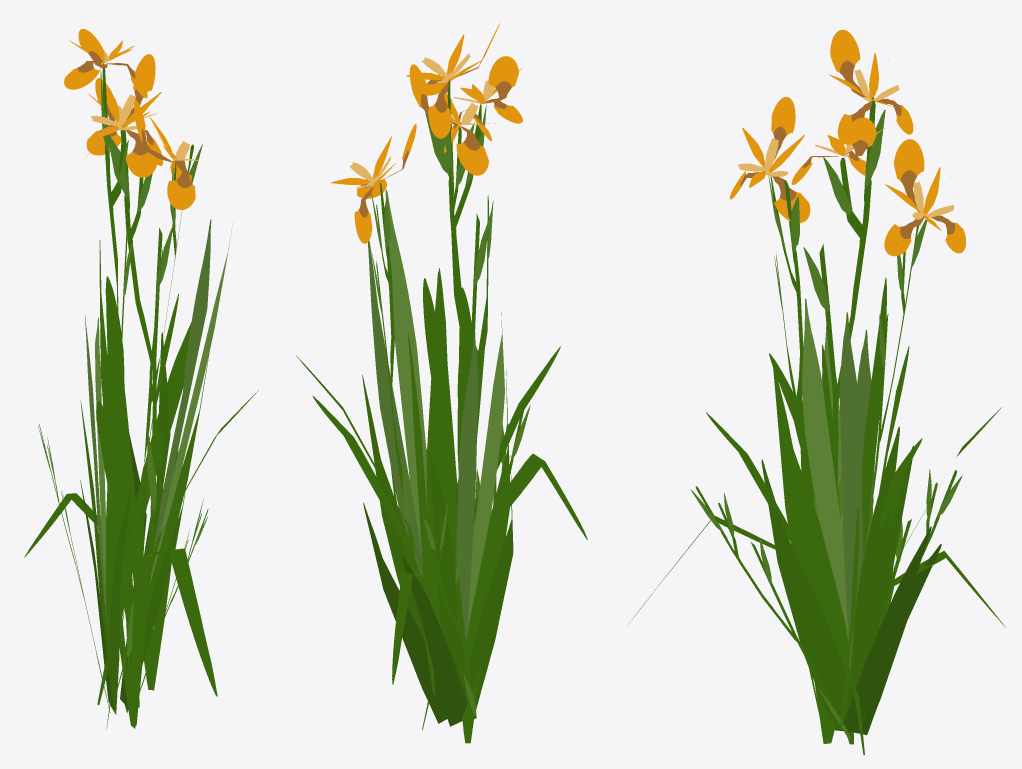
File: PT_Iris_01.fbx
3 views of the same model, side by side, from view 1: azimuth 30°, elevation 25°; view 2: azimuth 150°, elevation 25°; view 3: azimuth 270°, elevation 25° (orthographic). The views are drawn at different scales.
Visible parts, largest first — view 1: PT_Iris_01_LOD0; view 2: PT_Iris_01_LOD0; view 3: PT_Iris_01_LOD0.
Part boxes in pixels (x1=…): PT_Iris_01_LOD0: x1=24, y1=29, x2=258, y2=729; PT_Iris_01_LOD0: x1=296, y1=23, x2=587, y2=743; PT_Iris_01_LOD0: x1=629, y1=29, x2=1005, y2=754.
Size of what is drawn, in the model's own units: 38.25 by 139 by 67.56.
